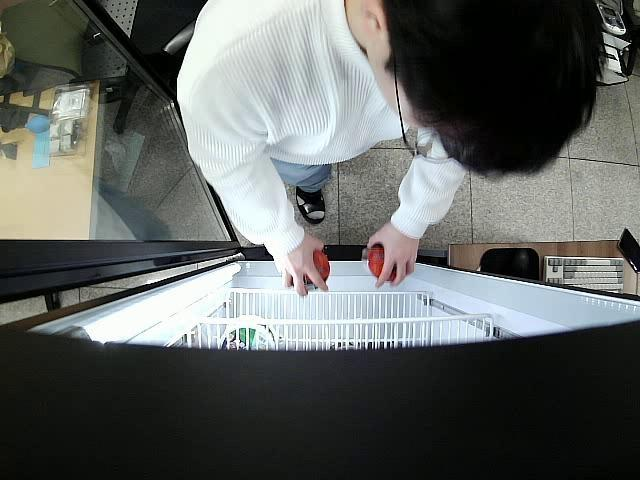02_shinRamen_S: (362, 244, 408, 282), (290, 248, 331, 290)
